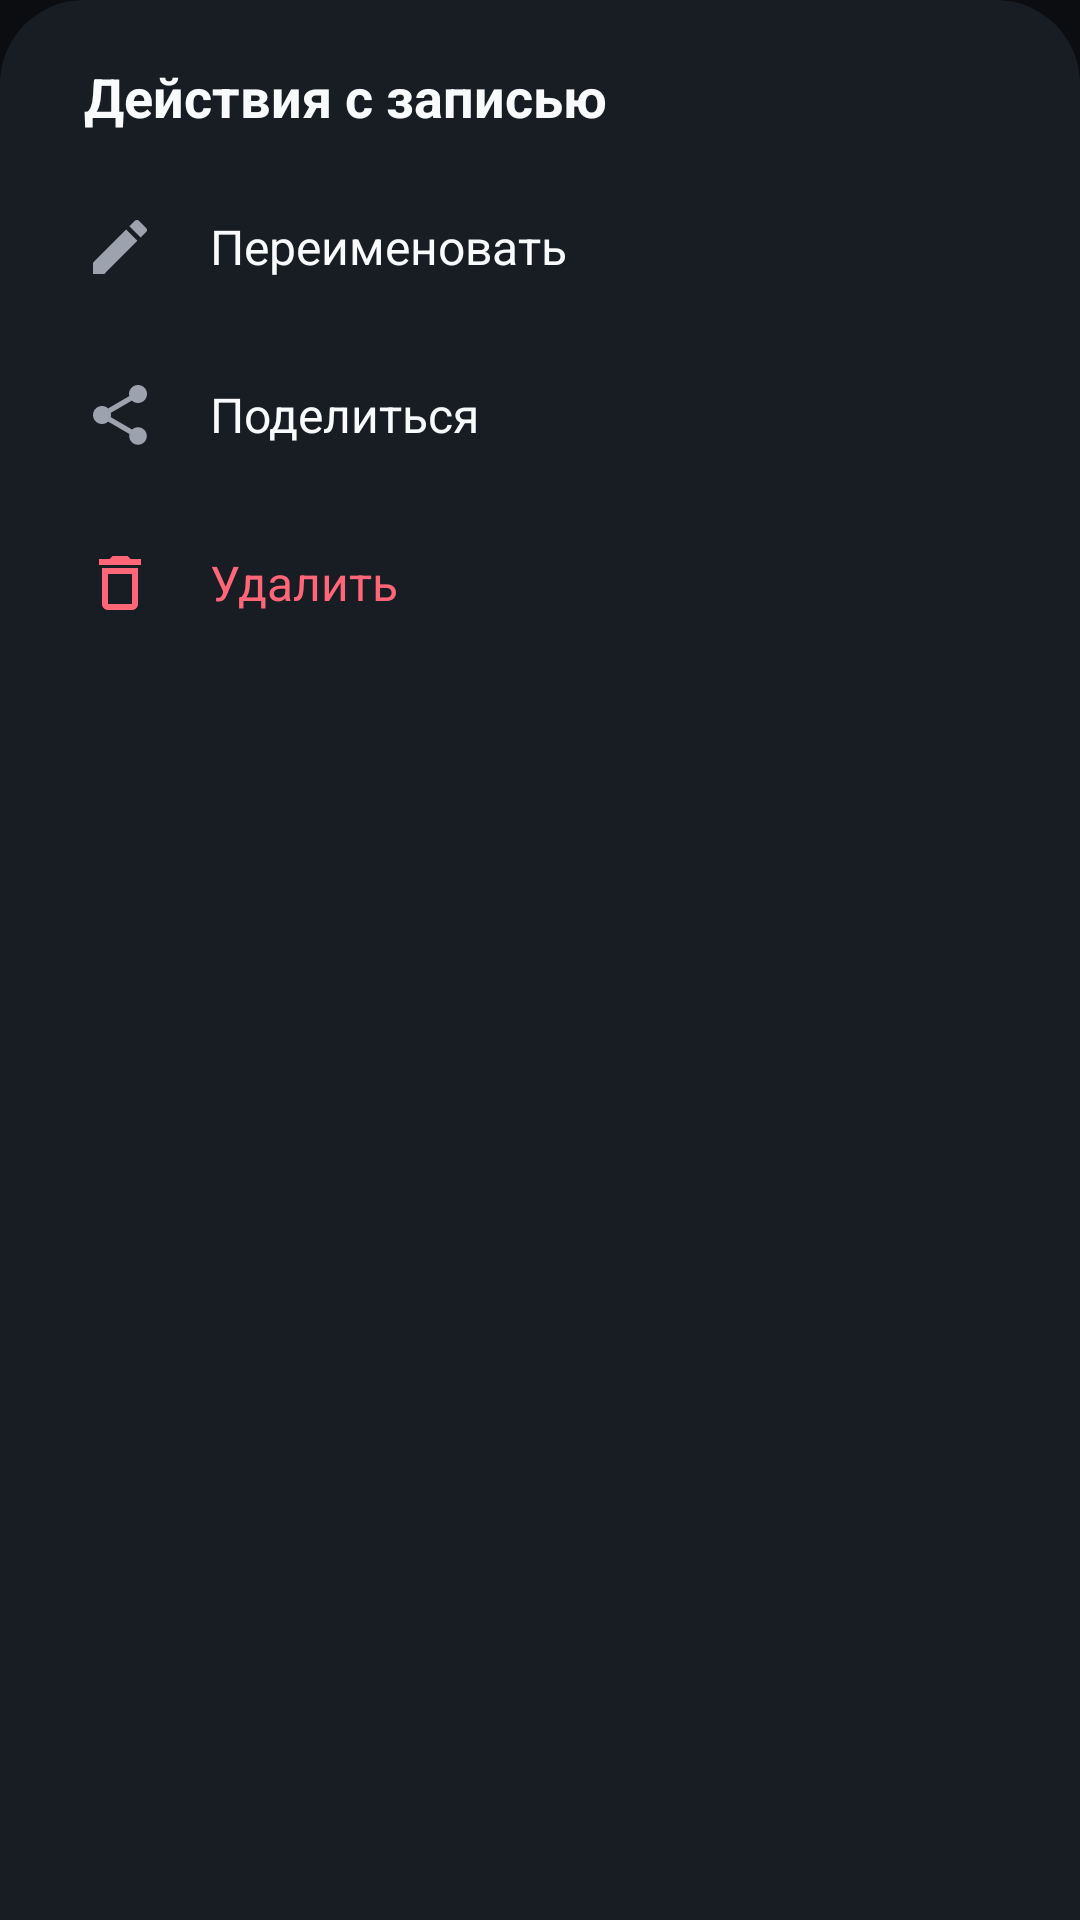

Icon bounding boxes for this 1080*1920 phone screenshot, format region(x1, y1, x2, y2):
delete: region(99, 556, 141, 610)
edit: region(93, 220, 147, 274)
share: region(93, 385, 147, 445)
